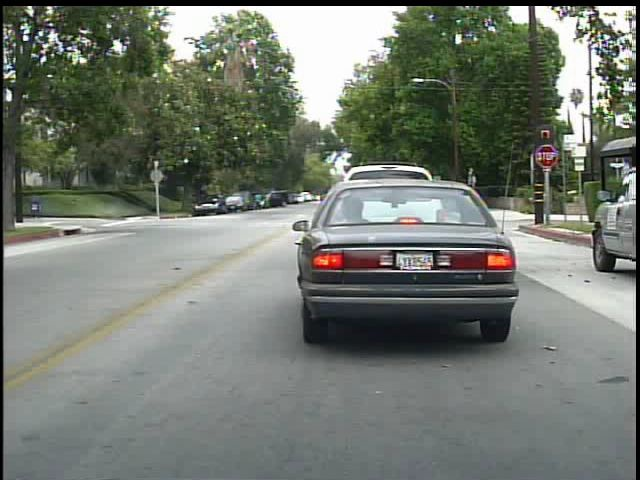person: (252, 189, 265, 212)
